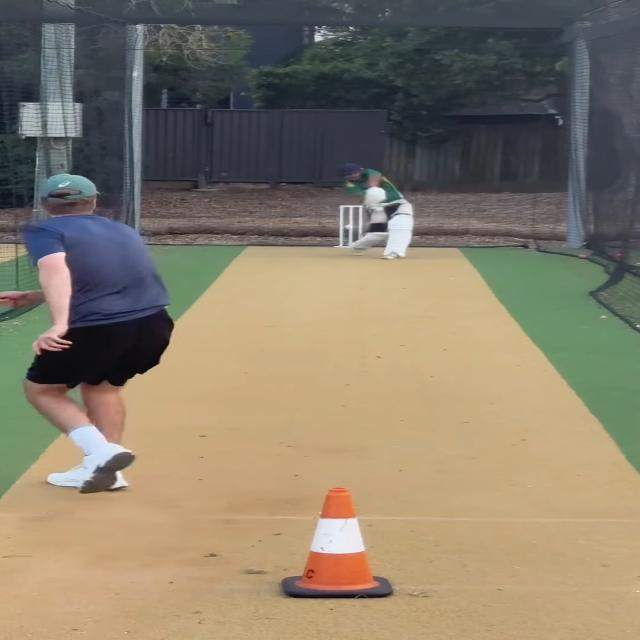ball: (344, 222, 357, 230)
stump: (335, 203, 363, 250)
